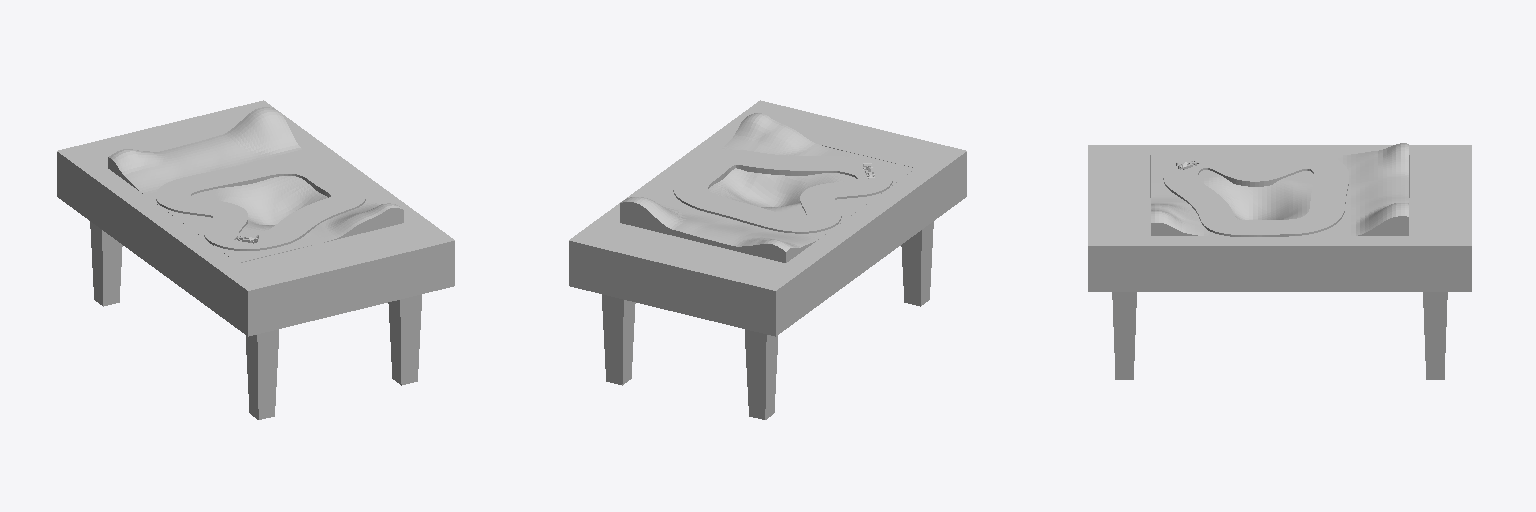
Rendered from NewestTisch62.obj.
3 views of the same model, side by side, from view 1: azimuth 30°, elevation 25°; view 2: azimuth 150°, elevation 25°; view 3: azimuth 270°, elevation 25° (orthographic).
Visible parts, largest first — view 1: Tischplatte_wood_table_001, Landschaft_aerial_grass_rock, off, Bein1_wood_table_001, Bein4_wood_table_001.003, Bein3_wood_table_001.002; view 2: Tischplatte_wood_table_001, Landschaft_aerial_grass_rock, off, Bein2_wood_table_001.001, Bein3_wood_table_001.002, Bein4_wood_table_001.003; view 3: Tischplatte_wood_table_001, Landschaft_aerial_grass_rock, off, Bein1_wood_table_001, Bein2_wood_table_001.001.
Boxes of the visible parts, x1=… form: Tischplatte_wood_table_001: x1=57, y1=100, x2=454, y2=336; Landschaft_aerial_grass_rock: x1=108, y1=107, x2=403, y2=262; off: x1=156, y1=159, x2=365, y2=250; Bein1_wood_table_001: x1=388, y1=294, x2=421, y2=385; Bein4_wood_table_001.003: x1=246, y1=329, x2=278, y2=419; Bein3_wood_table_001.002: x1=90, y1=221, x2=122, y2=306; Tischplatte_wood_table_001: x1=569, y1=100, x2=966, y2=336; Landschaft_aerial_grass_rock: x1=620, y1=113, x2=915, y2=262; off: x1=673, y1=150, x2=892, y2=233; Bein2_wood_table_001.001: x1=602, y1=294, x2=635, y2=385; Bein3_wood_table_001.002: x1=745, y1=329, x2=777, y2=419; Bein4_wood_table_001.003: x1=901, y1=221, x2=933, y2=306; Tischplatte_wood_table_001: x1=1088, y1=145, x2=1471, y2=291; Landschaft_aerial_grass_rock: x1=1151, y1=143, x2=1408, y2=235; off: x1=1163, y1=153, x2=1348, y2=236; Bein1_wood_table_001: x1=1112, y1=292, x2=1136, y2=379; Bein2_wood_table_001.001: x1=1423, y1=292, x2=1447, y2=379.
Bounding box in the file's own units: 5 × 3.91 × 8.